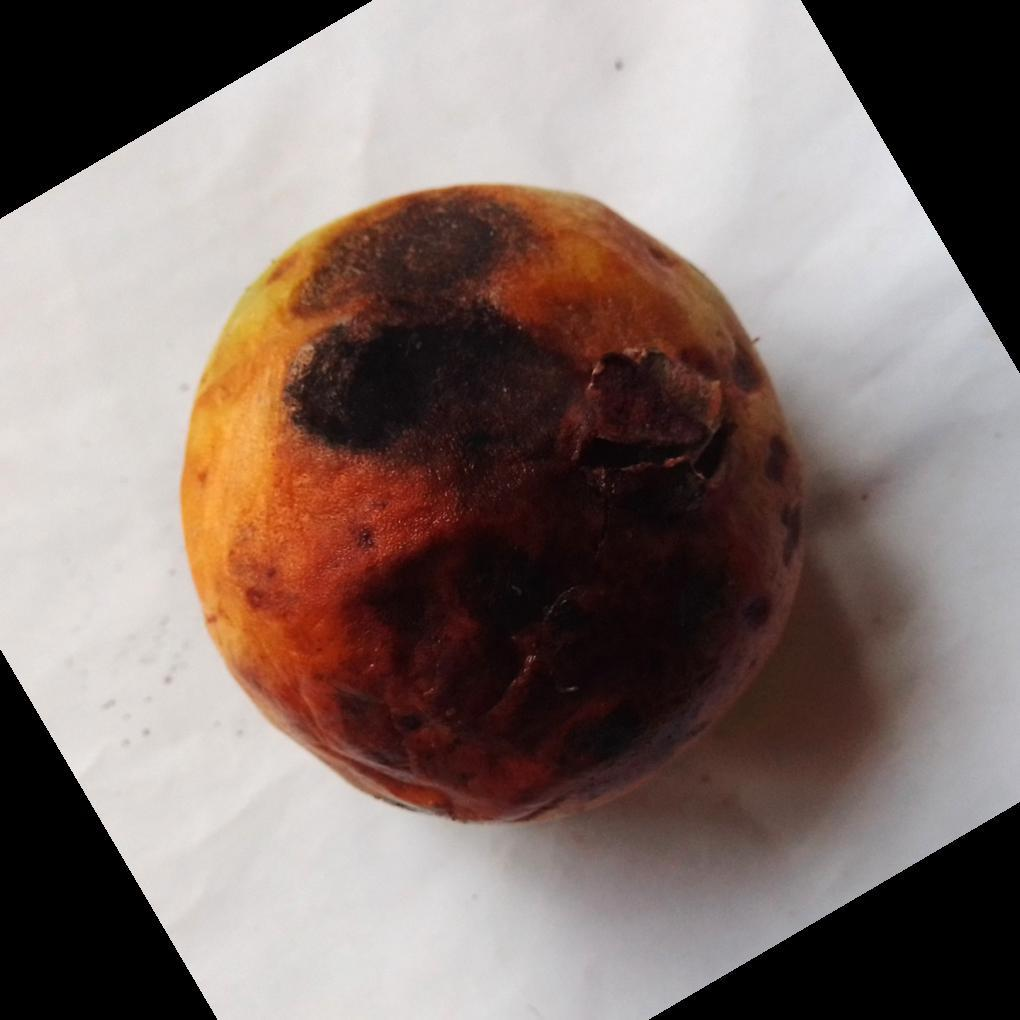FreshOrange: (177, 183, 808, 830)
